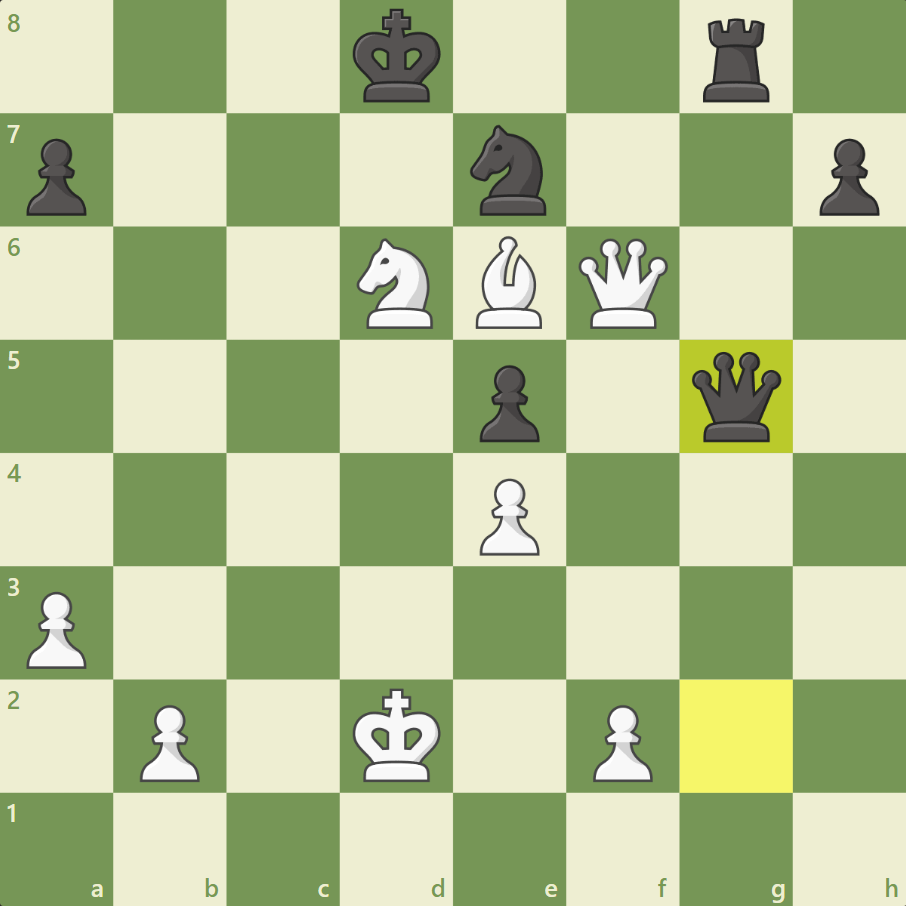B: (470, 236, 547, 333)
K: (348, 687, 444, 785)
N: (355, 235, 438, 332)
P: (468, 472, 544, 563), (138, 699, 202, 786), (24, 590, 91, 673), (593, 703, 653, 787)
Q: (575, 233, 671, 333)
k: (347, 4, 443, 107)
n: (464, 121, 554, 220)
p: (21, 135, 92, 219), (813, 135, 884, 219), (476, 358, 543, 445)
q: (688, 349, 784, 446)
r: (698, 13, 776, 105)
